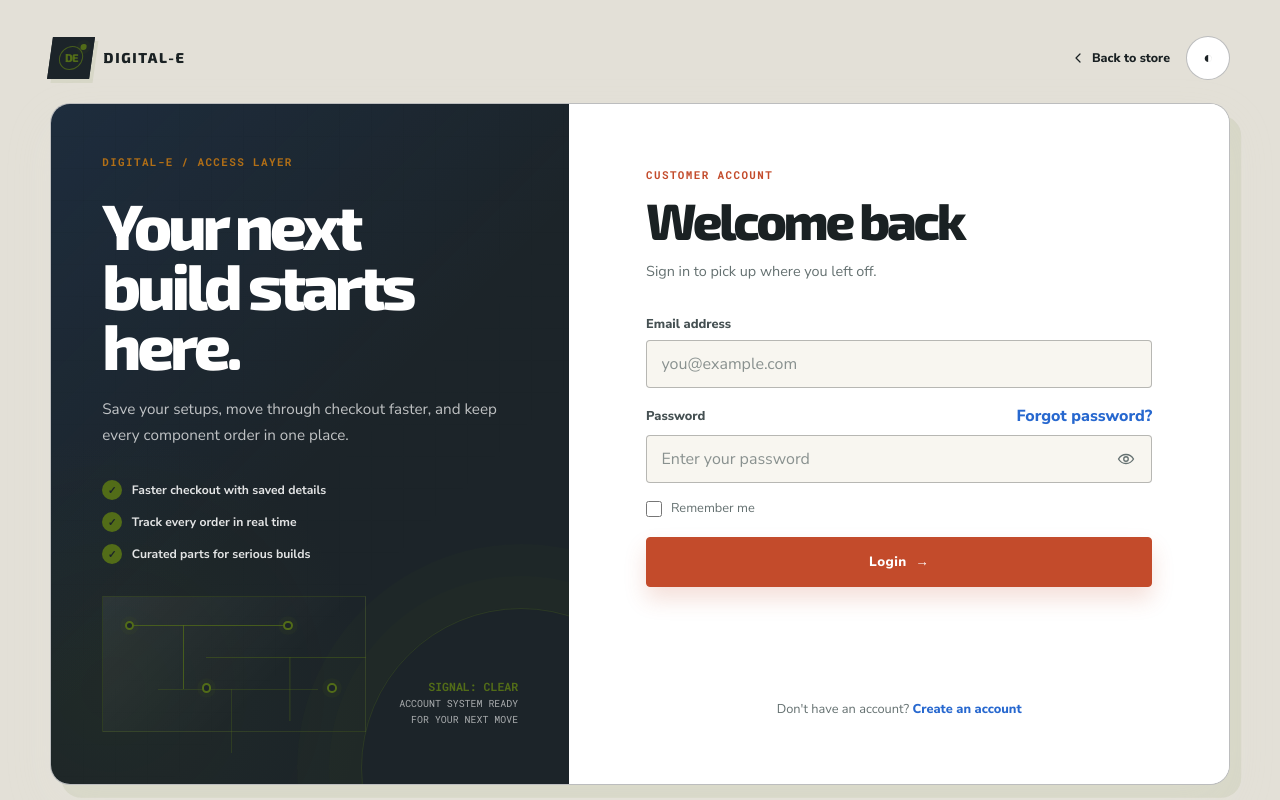
Test: LoginPage Firebase errors › shows the app's email validation instead of relying on browser-native validation
In the field labelled "Email address": coordinates (899, 364) [646, 340, 1152, 388], type "not-an-email"
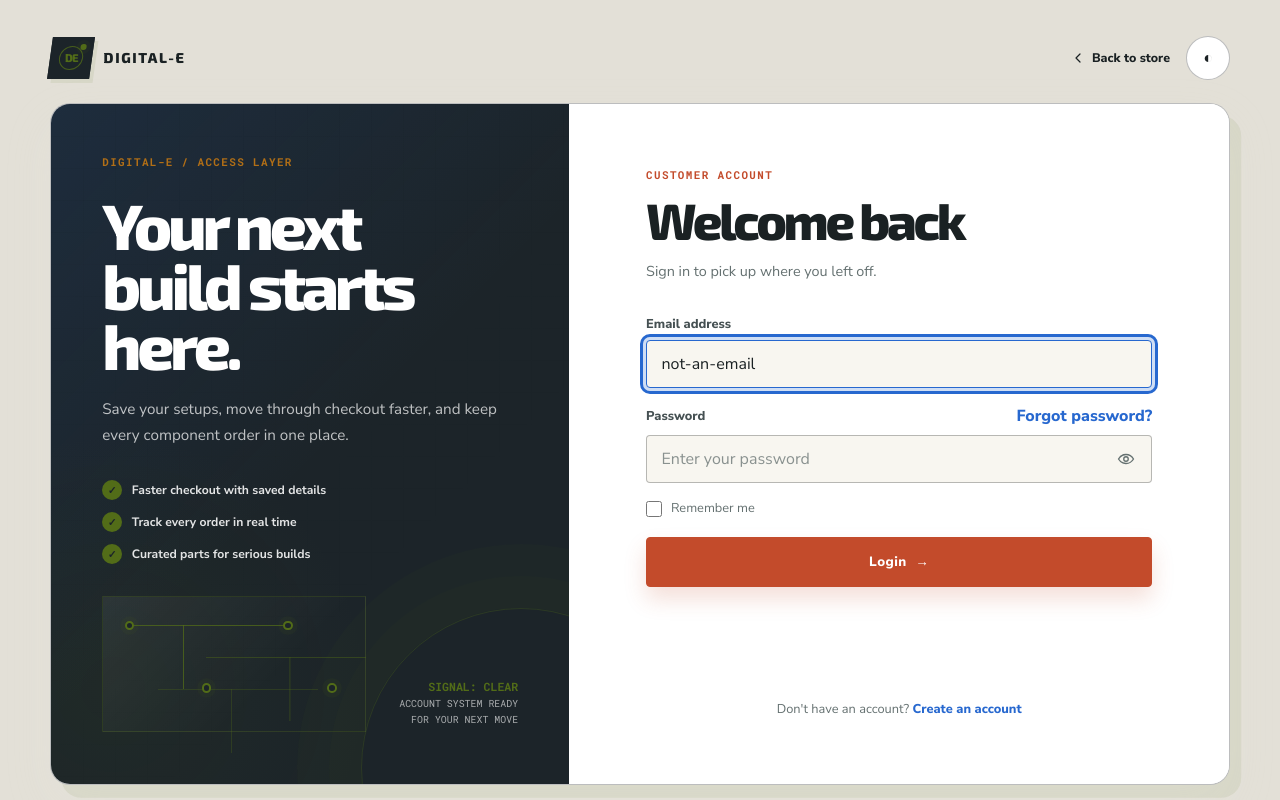
In the password field labelled "Password": coordinates (899, 459) [646, 435, 1152, 483], type "password"
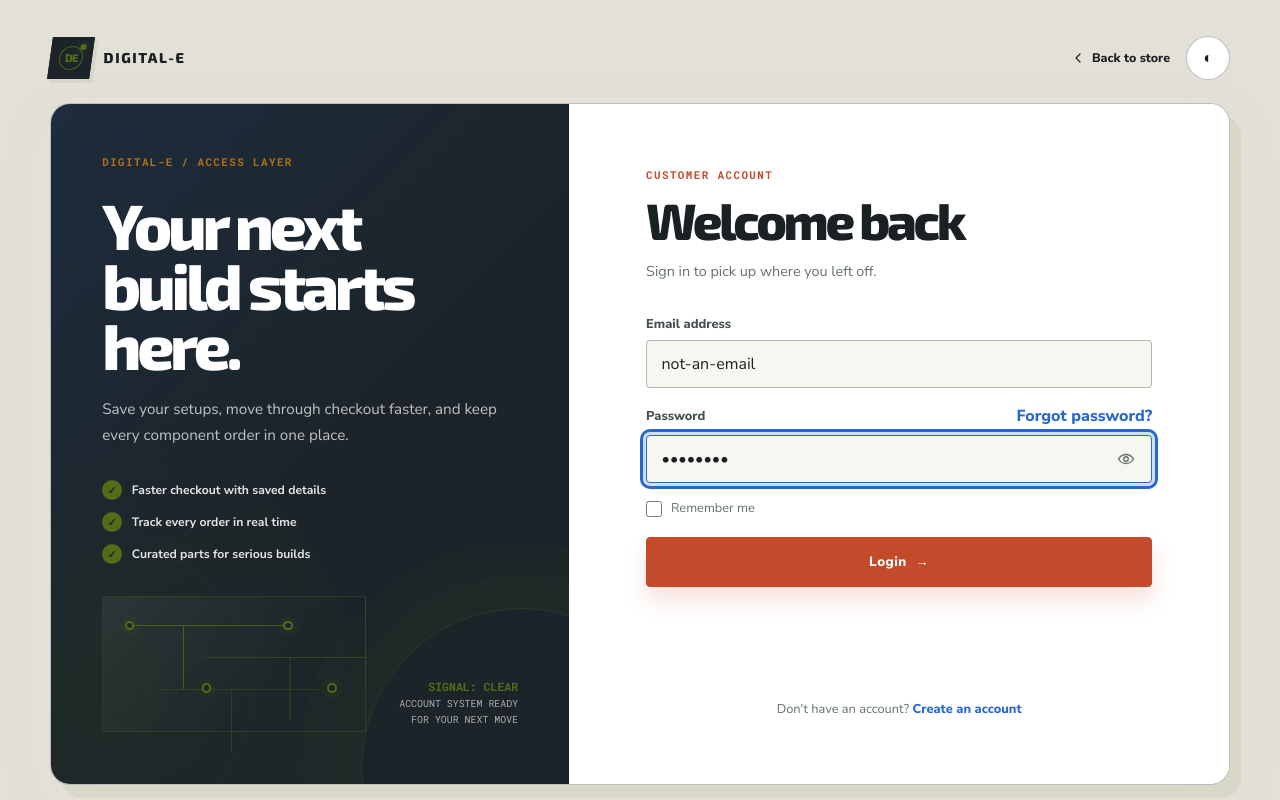
Click the button "Login →": coordinates (899, 562) [646, 537, 1152, 587]
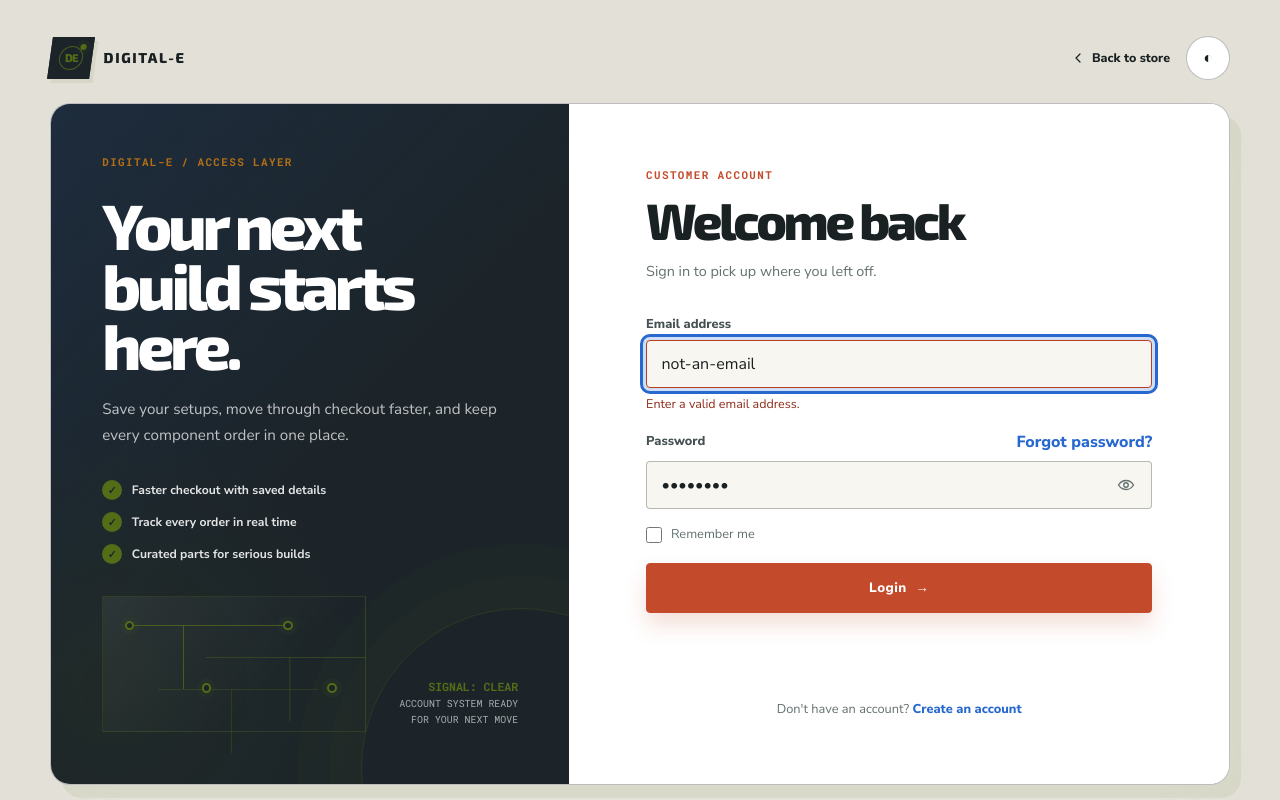
Now the message reads "Enter a valid email address.", box [646, 395, 800, 412]
